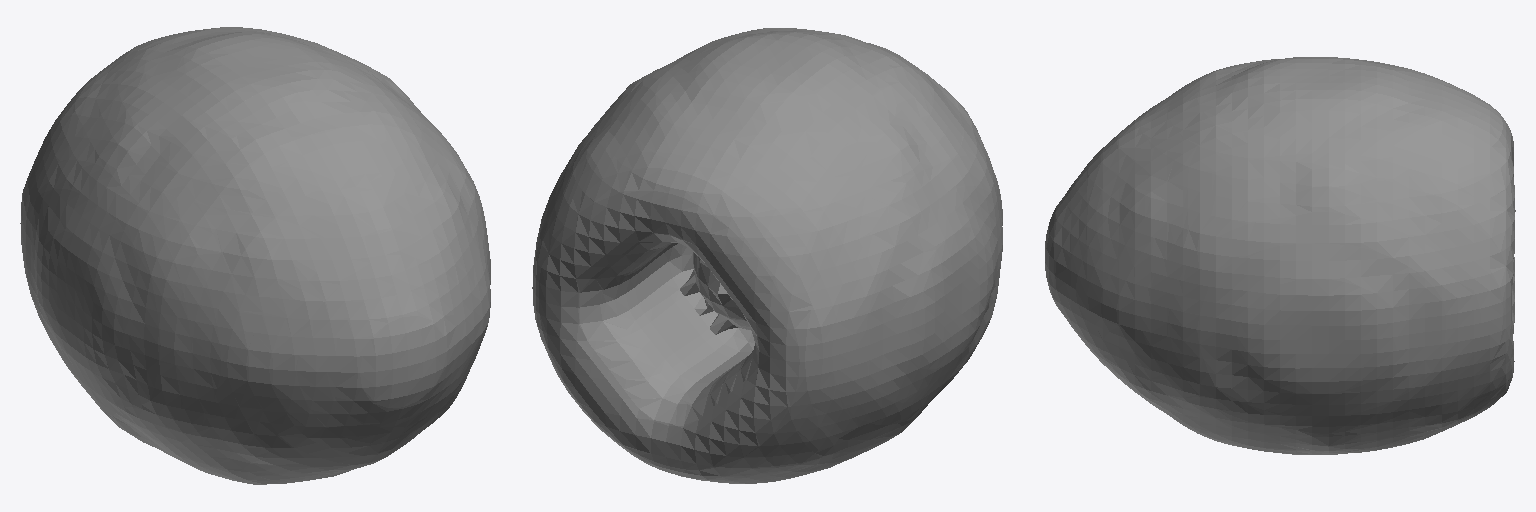
robot.urdf — cube.urdf:
<?xml version="0.0" ?> 
<robot name="cube.urdf"> 
<link name="legobrick"> 
<contact> 
<lateral_friction value="5.0"/> 
<rolling_friction value="0.0"/> 
<contact_cfm value="0.0"/> 
<contact_erp value="1.0"/> 
</contact> 
<inertial> 
<origin rpy="0 0 0" xyz="0.0 0.0 0.0"/> 
<mass value=".01"/> 
<inertia ixx="1" ixy="0" ixz="0" iyy="1" iyz="0" izz="1"/> 
</inertial> 
<visual> 
<origin rpy="1.570796 0 0" xyz="-0.030521244768444245 0.02551547546481544 -0.030515043535028607"/> 
<geometry> 
<mesh filename="D08_1.obj" scale="0.0006990608112757555 0.0006990608112757555 0.0006990608112757555"/> 
</geometry> 
<material name="yellow"> 
<color rgba="0.6 0.6 0.6 1"/> 
</material> 
</visual> 
<collision> 
<origin rpy="1.570796 0 0" xyz="-0.030521244768444245 0.02551547546481544 -0.030515043535028607"/> 
<geometry> 
<mesh filename="D08_1.obj" scale="0.0006990608112757555 0.0006990608112757555 0.0006990608112757555"/> 
</geometry> 
</collision> 
</link> 
</robot>

--- What the picture shows (computed from the rendered views, not written in the file) ---
Views: 3 orthographic renders of the robot side by side, from view 1: azimuth 30°, elevation 25°; view 2: azimuth 150°, elevation 25°; view 3: azimuth 270°, elevation 25°.
Model cube.urdf with 1 links and 0 joints (none), rooted at legobrick, posed every joint at zero.
Visible links, largest first — view 1: legobrick; view 2: legobrick; view 3: legobrick.
Link boxes in pixels (bbox=[...]): legobrick: bbox=[20, 27, 490, 484]; legobrick: bbox=[532, 28, 1002, 483]; legobrick: bbox=[1045, 57, 1515, 454].
Size in the robot's own frame: 0.056 by 0.0663 by 0.056 metres.
1 mesh visuals loaded from 1 distinct referenced files (1 OBJ).
